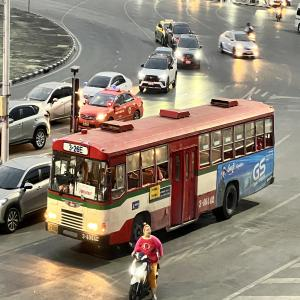BMTA-bus: (45, 98, 275, 259)
Bus Line Number: (65, 142, 84, 154)
Bus Side Number: (196, 196, 215, 209), (81, 232, 100, 242)
Destination Sign: (74, 182, 95, 200)
